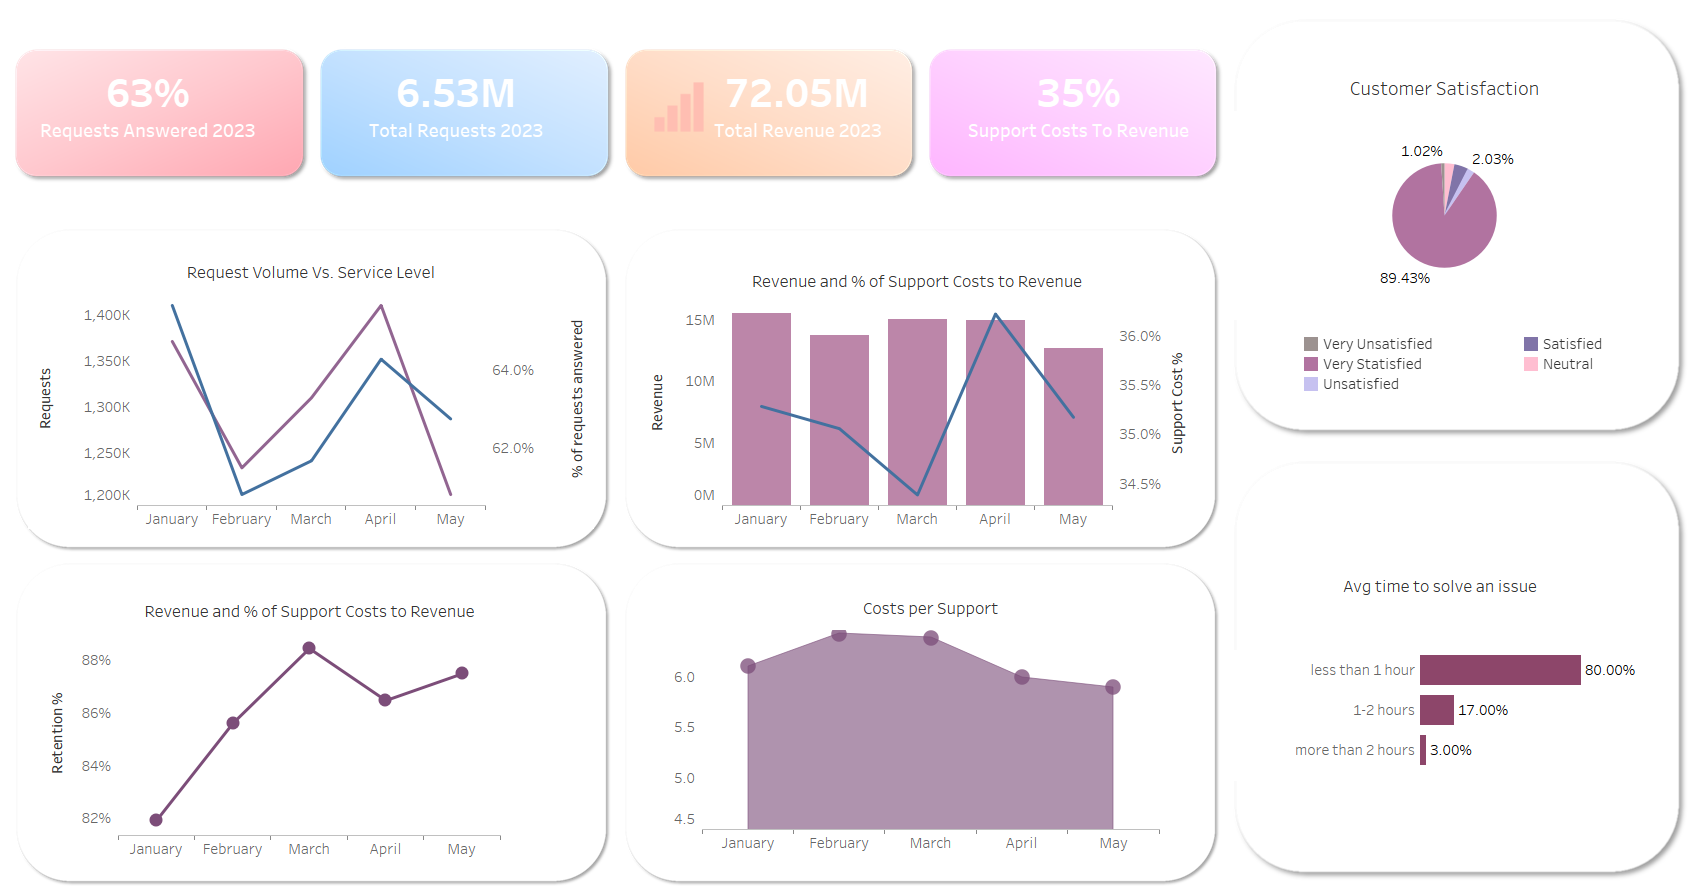

This screenshot's page, from the dashboard's own definition file:
{"tool":"tableau","page":{"name":"final dashboard","canvas":[1700,900],"ordinal":0},"visuals":[{"type":"worksheet","box":[0,0,1700,900]},{"type":"worksheet","param":"horz","box":[8,8,1684,884]},{"type":"worksheet","param":"horz","box":[8,8,1684,884]},{"type":"worksheet","param":"horz","box":[8,8,1684,884]},{"type":"worksheet","box":[8,8,1684,884]},{"type":"worksheet","param":"horz","box":[8,8,1218.4,216.5]},{"type":"worksheet","param":"C:/Users/Aman Irshad/Pictures/New folder/Picture1.png","box":[8,8,305,216]},{"type":"worksheet","param":"C:/Users/Aman Irshad/Pictures/New folder/Picture2.png","box":[313,8,305,216]},{"type":"worksheet","param":"C:/Users/Aman Irshad/Pictures/New folder/Picture3.png","box":[618,8,304,216]},{"type":"worksheet","param":"C:/Users/Aman Irshad/Pictures/New folder/Picture4.png","box":[922,8,304,216]},{"type":"worksheet","param":"vert","box":[1226.4,8,465.5,884]},{"type":"worksheet","param":"C:/Users/Aman Irshad/Pictures/New folder/Picture5.png","box":[1226.4,8,465.5,442]},{"type":"worksheet","title":"bar","mark":"Shape","rows":["Calculation_2024931014387613704"],"box":[483,41,253,134]},{"type":"worksheet","title":"requests","mark":"Automatic","box":[27.4,65,286.3,224]},{"type":"worksheet","title":"Total requests","mark":"Automatic","box":[356.5,65,286.3,224]},{"type":"worksheet","title":"Revenue","mark":"Automatic","box":[707,65,286,224]},{"type":"worksheet","title":"Support cost","mark":"Automatic","box":[958,65,286,224]},{"type":"worksheet","title":"satisfaction","mark":"Pie","box":[1233,72,421,249]},{"type":"worksheet","param":"horz","box":[8,224.5,1218.4,333.8]},{"type":"worksheet","param":"C:/Users/Aman Irshad/Pictures/New folder/Picture7.png","box":[8,224.5,609.2,333.8]},{"type":"worksheet","param":"C:/Users/Aman Irshad/Pictures/New folder/Picture7.png","box":[617.2,224.5,609.2,333.8]},{"type":"worksheet","title":"req vol vs service level","mark":"Automatic","rows":["Request_volume","Calculation_2024931014084804608"],"cols":["day"],"box":[27.4,257,565.9,273]},{"type":"worksheet","title":"revenue vs cost","mark":"Bar","rows":["Revenue","Calculation_2024931014086803457"],"cols":["day"],"box":[639,266,554,264]},{"type":"worksheet","param":"C:/Users/Aman Irshad/Pictures/New folder/Picture5.png","box":[1226.4,450,465.5,442]},{"type":"worksheet","param":"horz","box":[8,558.2,1218.4,333.8]},{"type":"worksheet","param":"C:/Users/Aman Irshad/Pictures/New folder/Picture7.png","box":[8,558.2,609.2,333.8]},{"type":"worksheet","param":"C:/Users/Aman Irshad/Pictures/New folder/Picture7.png","box":[617.2,558.2,609.2,333.8]},{"type":"worksheet","title":"time to solve","mark":"Automatic","rows":["time to solve"],"cols":["request%"],"box":[1231,571,416,276]},{"type":"worksheet","title":"cost per support","mark":"Area","rows":["Calculation_2024931014122704899","Calculation_2024931014122704899"],"cols":["day"],"box":[671,593,517,261]},{"type":"worksheet","title":"cust retention","mark":"Bar","rows":["Calculation_2024931014118678530","Calculation_2024931014118678530"],"cols":["day"],"box":[39,596,539,264]}]}

Visuals, with their boxes in screenshot pixels (x1, y1, x2, y2), scaled from the page's 1700x900 canvas onto the 1697x896 screenshot:
worksheet: bbox=(0, 0, 1696, 895)
worksheet: bbox=(8, 8, 1689, 888)
worksheet: bbox=(8, 8, 1689, 888)
worksheet: bbox=(8, 8, 1689, 888)
worksheet: bbox=(8, 8, 1689, 888)
worksheet: bbox=(8, 8, 1224, 224)
worksheet: bbox=(8, 8, 312, 223)
worksheet: bbox=(312, 8, 617, 223)
worksheet: bbox=(617, 8, 920, 223)
worksheet: bbox=(920, 8, 1224, 223)
worksheet: bbox=(1224, 8, 1689, 888)
worksheet: bbox=(1224, 8, 1689, 448)
"bar" worksheet (Shape marks): bbox=(482, 41, 735, 174)
"requests" worksheet: bbox=(27, 65, 313, 288)
"Total requests" worksheet: bbox=(356, 65, 642, 288)
"Revenue" worksheet: bbox=(706, 65, 991, 288)
"Support cost" worksheet: bbox=(956, 65, 1242, 288)
"satisfaction" worksheet (Pie marks): bbox=(1231, 72, 1651, 320)
worksheet: bbox=(8, 224, 1224, 556)
worksheet: bbox=(8, 224, 616, 556)
worksheet: bbox=(616, 224, 1224, 556)
"req vol vs service level" worksheet: bbox=(27, 256, 592, 528)
"revenue vs cost" worksheet (Bar marks): bbox=(638, 265, 1191, 528)
worksheet: bbox=(1224, 448, 1689, 888)
worksheet: bbox=(8, 556, 1224, 888)
worksheet: bbox=(8, 556, 616, 888)
worksheet: bbox=(616, 556, 1224, 888)
"time to solve" worksheet: bbox=(1229, 568, 1644, 843)
"cost per support" worksheet (Area marks): bbox=(670, 590, 1186, 850)
"cust retention" worksheet (Bar marks): bbox=(39, 593, 577, 856)
